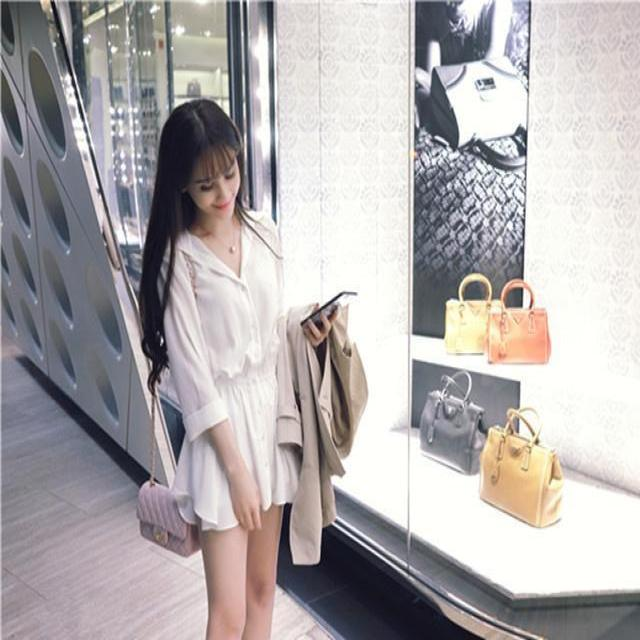long-sleeve-outwear: (129, 229, 348, 570)
